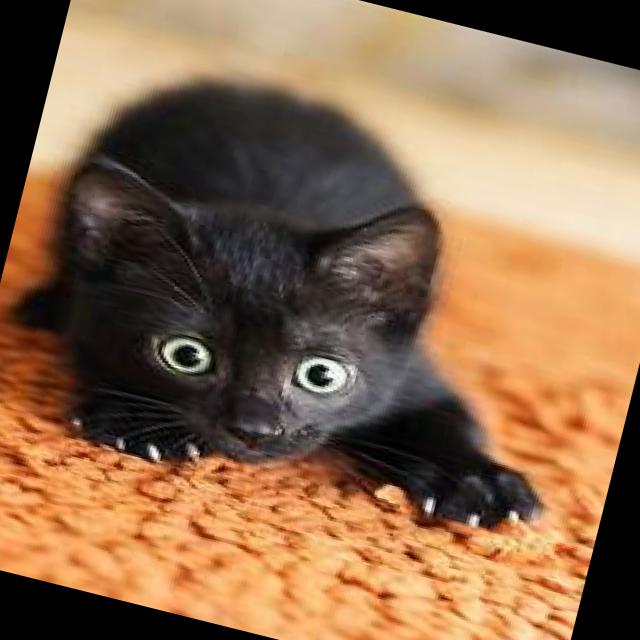animal: (0, 31, 633, 558)
